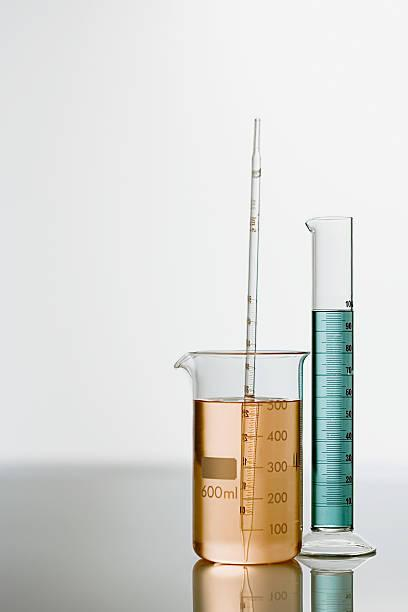Beaker: (171, 323, 300, 564)
Test tube: (301, 196, 368, 563)
